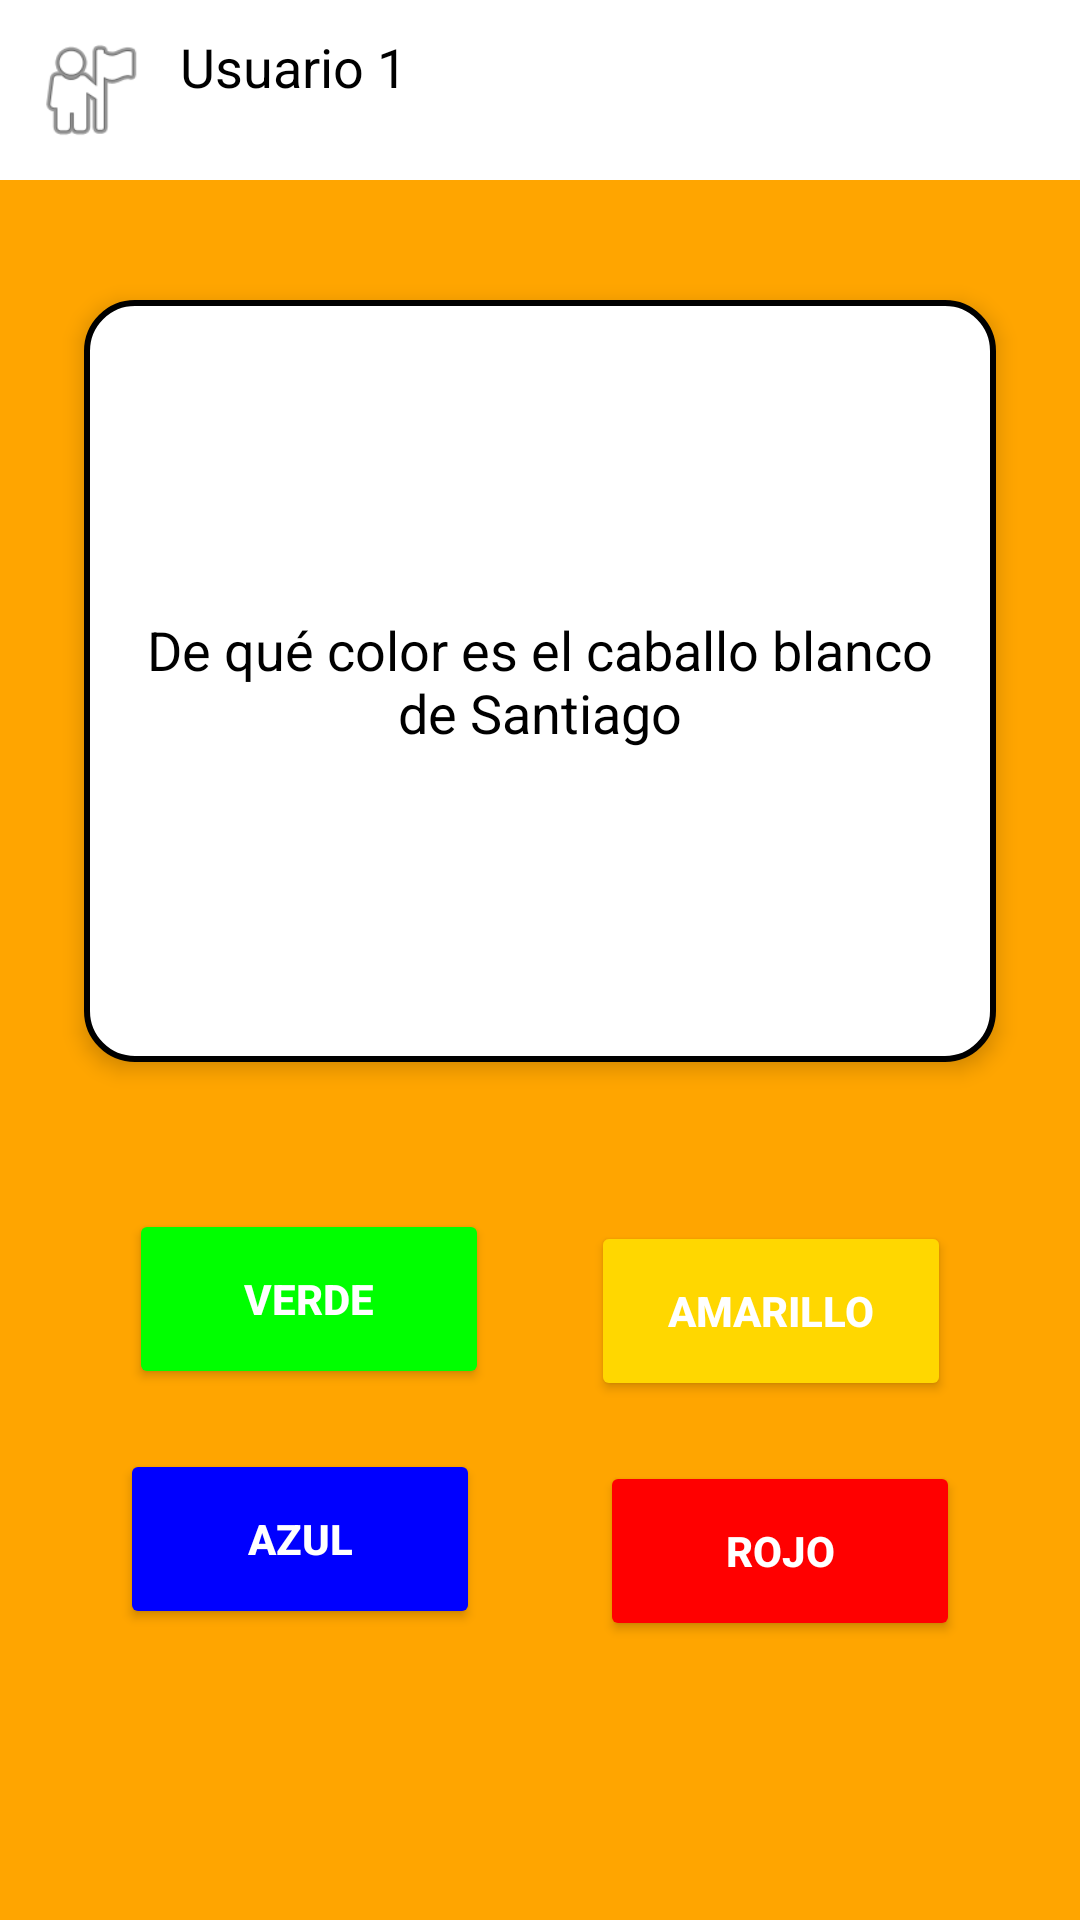

Named icons in this screenshot (1080w x 1920h) and their bounding boxes, {"left": x1, "top": y1, "right": x2, "bottom": y2}:
Ícono de usuario: {"left": 46, "top": 45, "right": 136, "bottom": 135}
